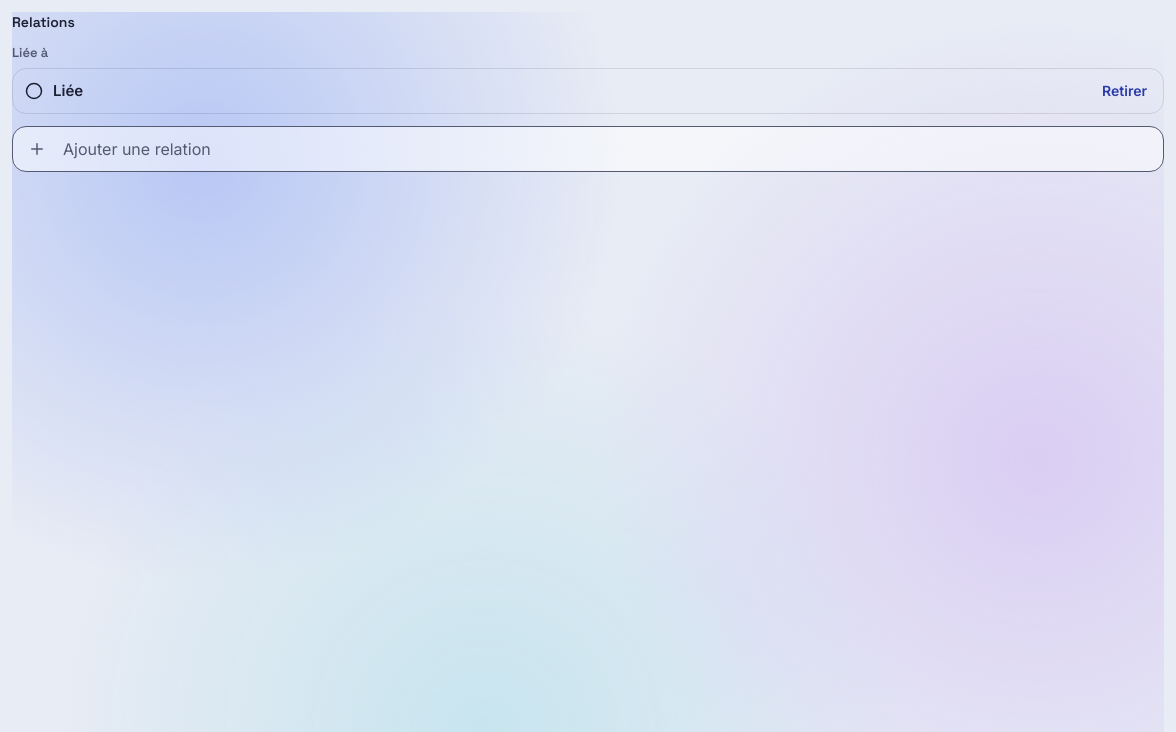
section « Relations » du détail › échec réseau : message générique, pas de silence
The width and height of the screenshot is (1176, 732).
Click the button with aria-label "Retirer la relation avec Liée" at [1125, 92], box [1090,70,1159,114]
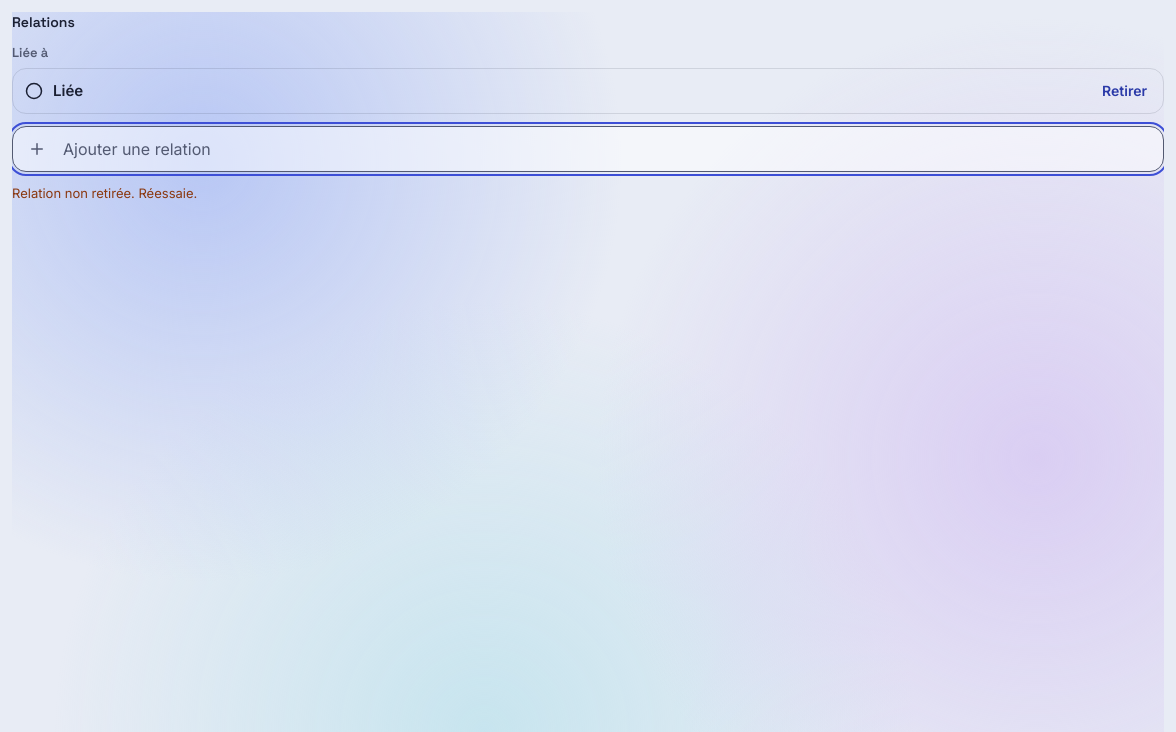
Expected: the message reads "Relation non retirée. Réessaie.", [12,186,197,202]
